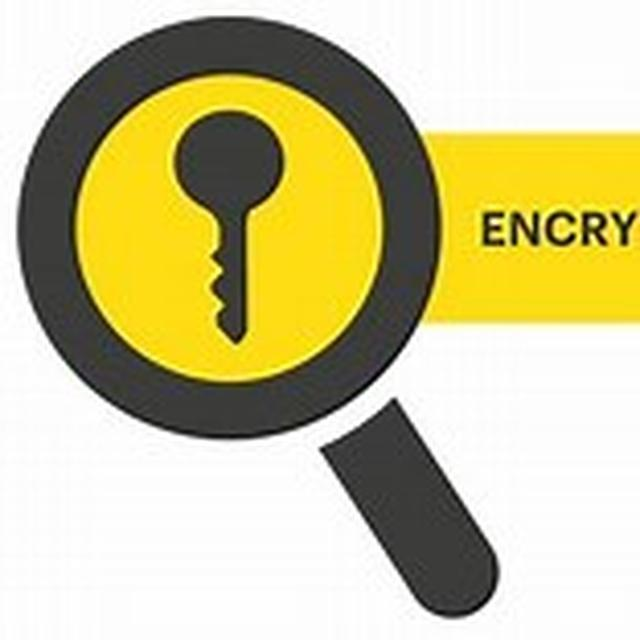key: (41, 28, 479, 631)
